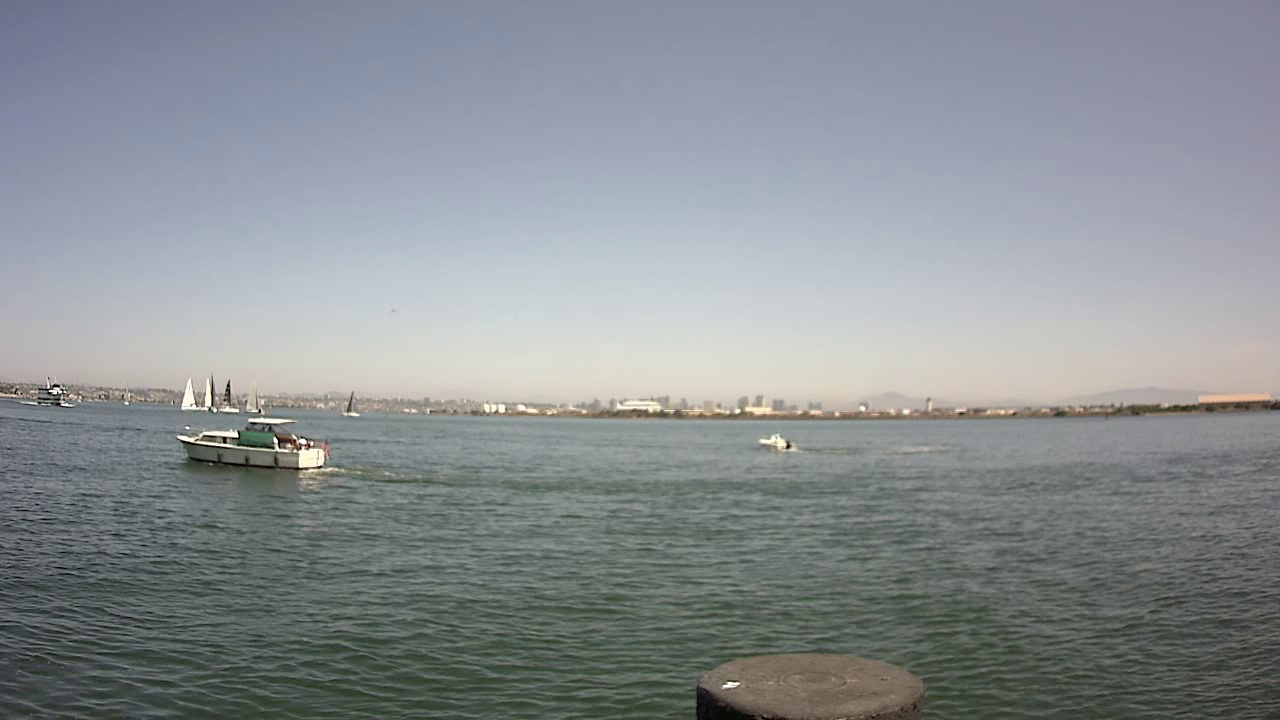target: (754, 426, 799, 457)
